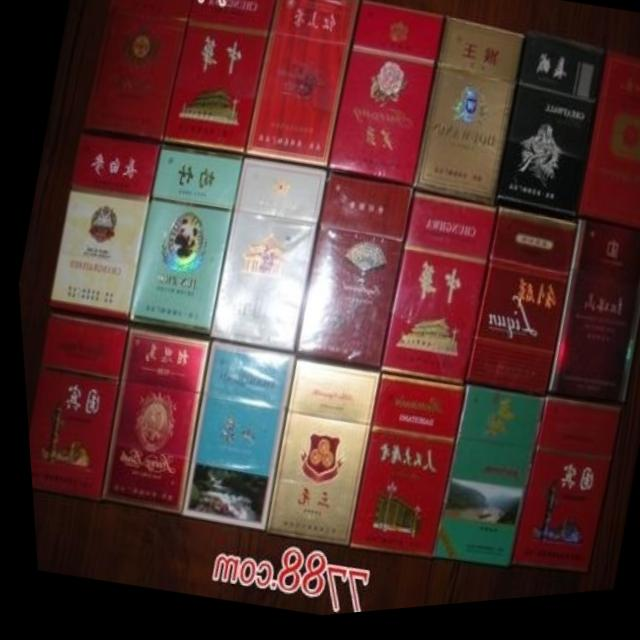box: (373, 194, 495, 392), (288, 176, 409, 375), (205, 162, 324, 358), (124, 143, 242, 339), (324, 5, 445, 194), (173, 343, 289, 535), (409, 23, 524, 214), (42, 133, 157, 323), (258, 362, 373, 552), (341, 378, 459, 563), (492, 37, 605, 229), (459, 215, 573, 404), (94, 327, 203, 519), (425, 394, 540, 573), (243, 0, 361, 174), (502, 408, 616, 582), (23, 313, 123, 503), (160, 0, 276, 160), (544, 229, 640, 415), (80, 0, 192, 143), (573, 60, 640, 244)
